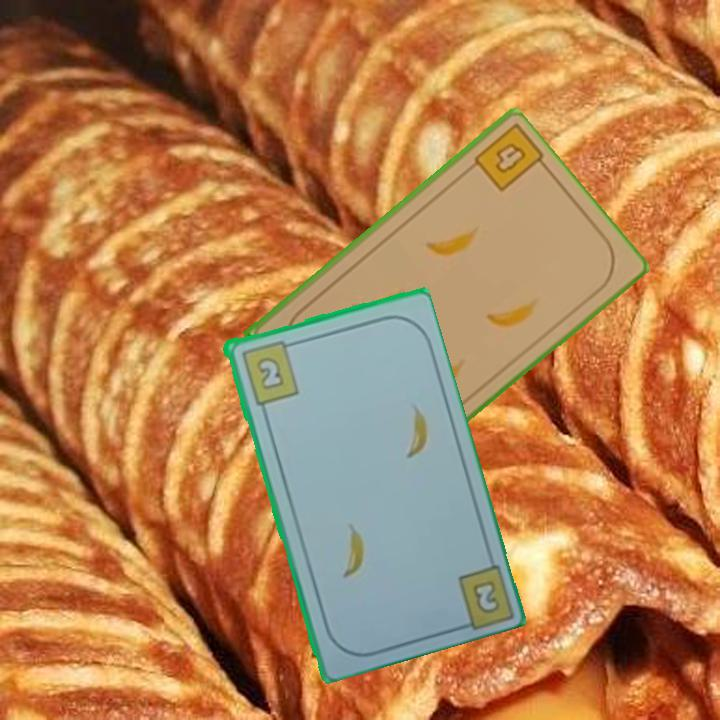2b: (237, 336, 301, 407), (468, 576, 503, 617)
4b: (491, 138, 529, 176)
